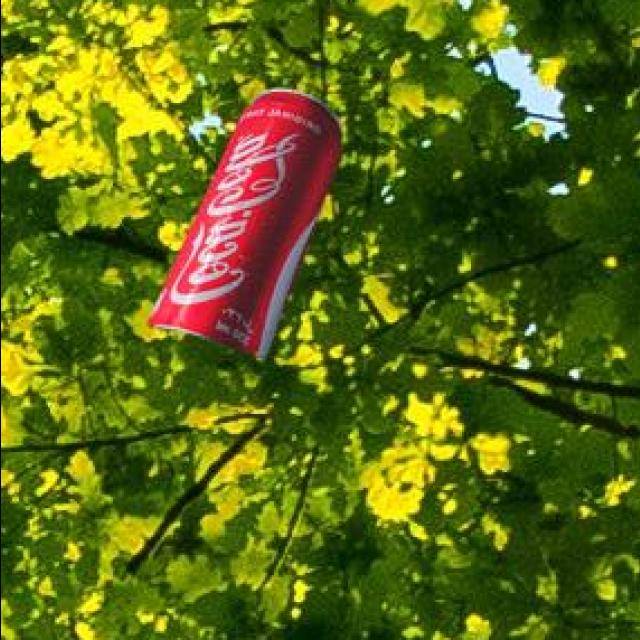logam: (151, 93, 343, 361)
